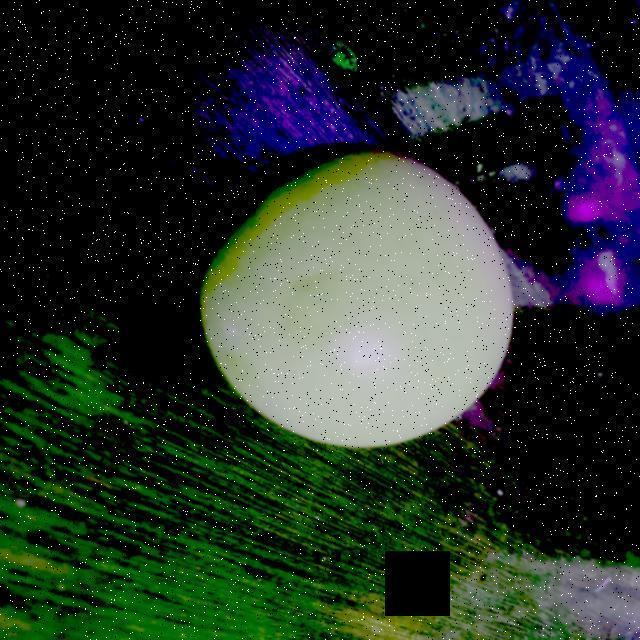egg: (190, 137, 518, 449)
